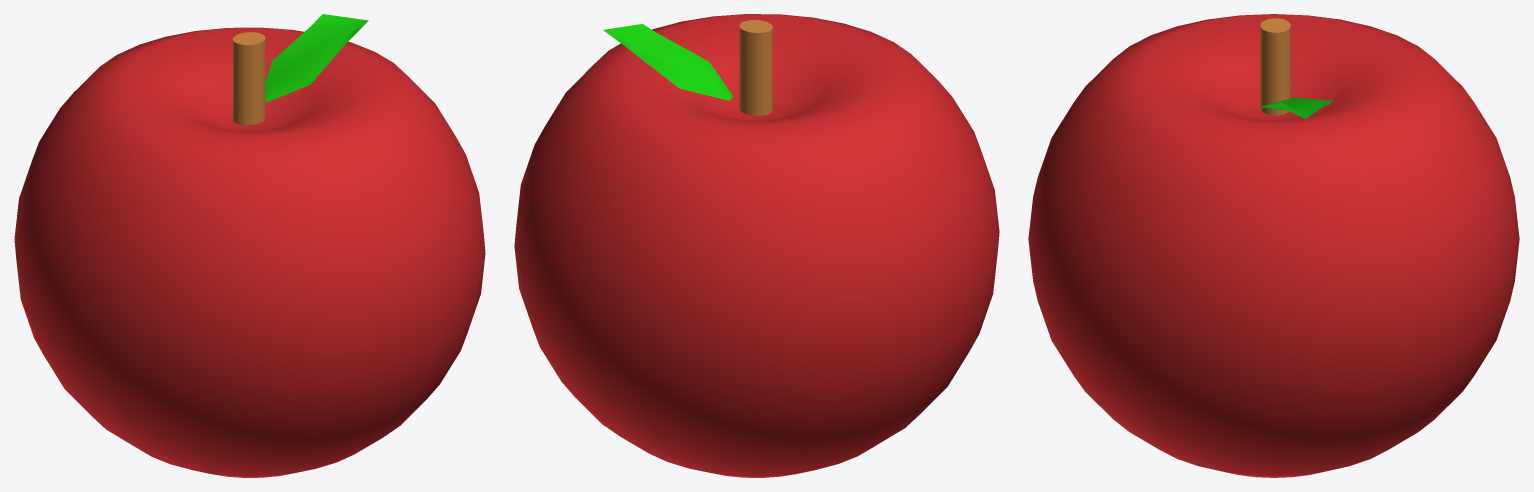
File: apple.fbx
The picture shows the model from 3 angles, left to right: view 1: azimuth 30°, elevation 25°; view 2: azimuth 150°, elevation 25°; view 3: azimuth 270°, elevation 25°; orthographic projection. The views are drawn at different scales.
Visible parts, largest first — view 1: 球, 球.001, 円柱; view 2: 球, 球.001, 円柱; view 3: 球, 円柱, 球.001.
Boxes of the visible parts, box(x1,y1,x2,y2) form: 球: box(14, 27, 485, 477); 球.001: box(265, 14, 368, 102); 円柱: box(233, 32, 265, 124); 球: box(514, 14, 999, 477); 球.001: box(603, 24, 732, 100); 円柱: box(739, 20, 772, 115); 球: box(1028, 14, 1519, 477); 円柱: box(1260, 18, 1290, 115); 球.001: box(1259, 97, 1333, 119).
Bounding box in the file's own units: 984 × 925 × 996.
